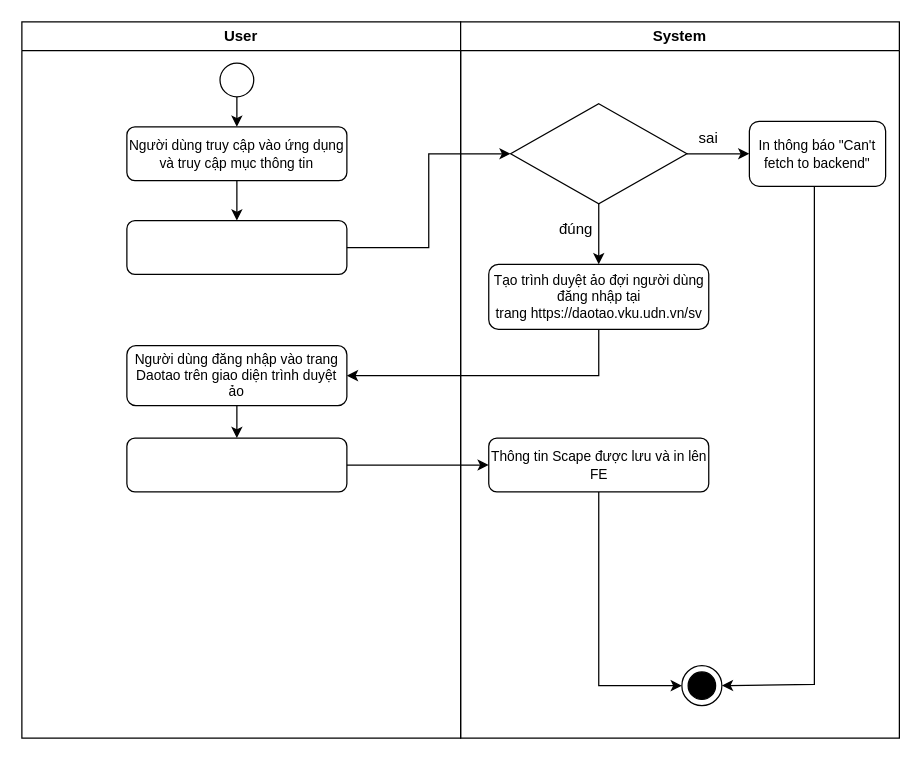
Some shapes in this 921 by 760 pixel diagram are drawn without their labels. The shapes that lost their labels are listed below. From the top down, each one's centre as x and y in pixels, then its label:
(x=598, y=153): Backend đã khởi chạy ?
(x=236, y=246): Người dùng nhấn "Khởi tạo"
(x=236, y=464): Người dùng nhấp scape trên giao diện FE
